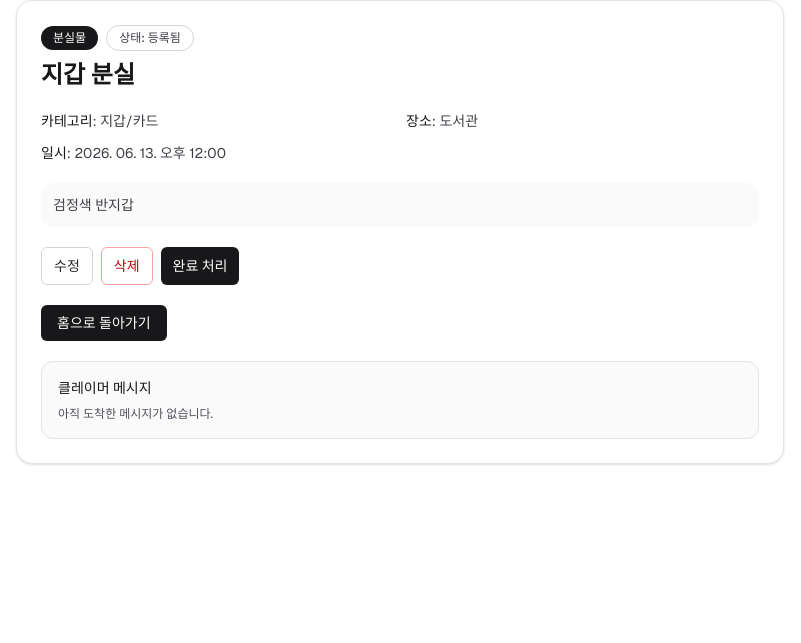
it: PostDetailView › allows author to edit and save post
Click the button "수정": (67, 266) [41, 247, 93, 285]
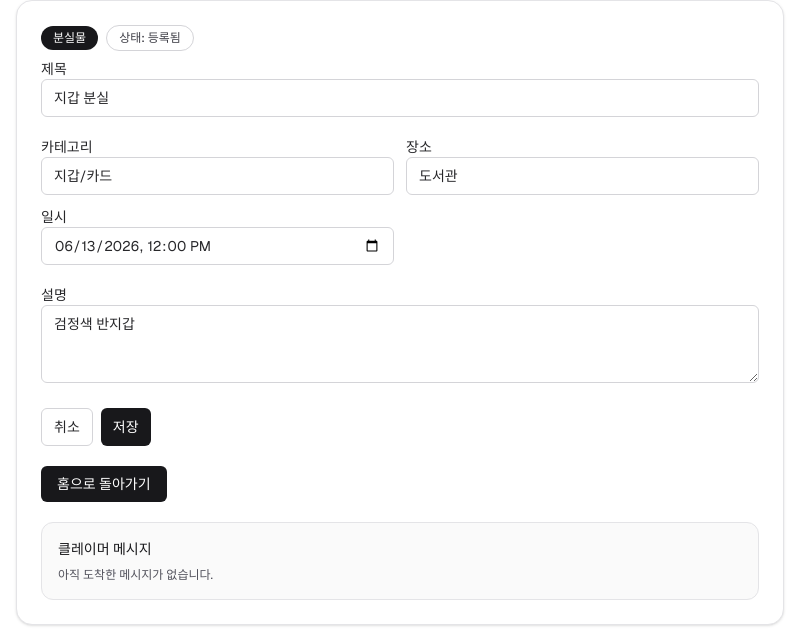
Replace the text in the field labelled "제목" with "지갑 분실(수정)": (400, 98) [41, 79, 759, 117]
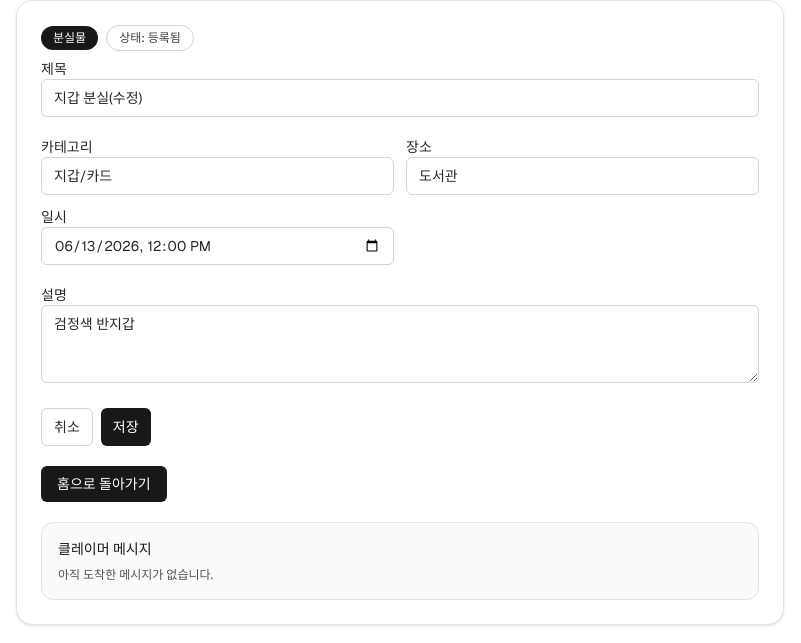
Replace the text in the text box labelled "설명" with "학생증 포함": (400, 344) [41, 305, 759, 383]
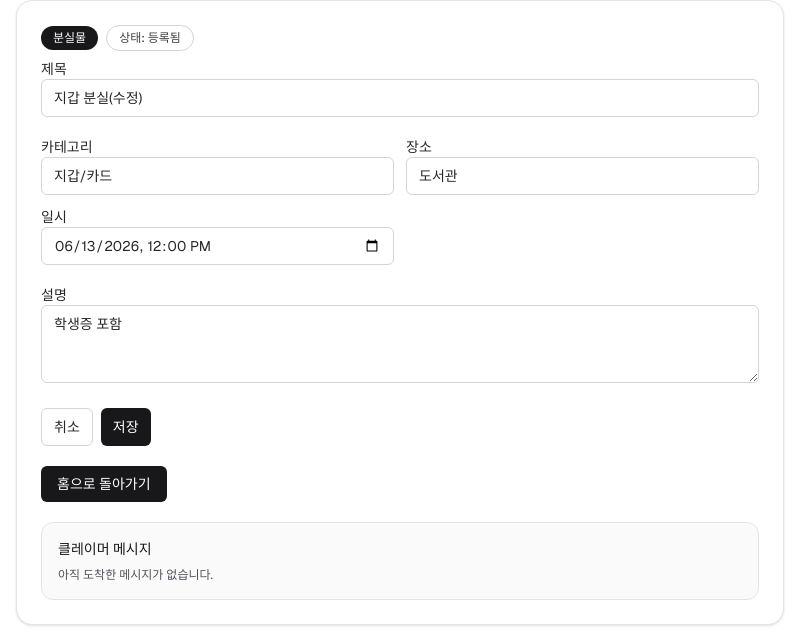
Click the button "저장": (126, 427) [101, 408, 151, 446]
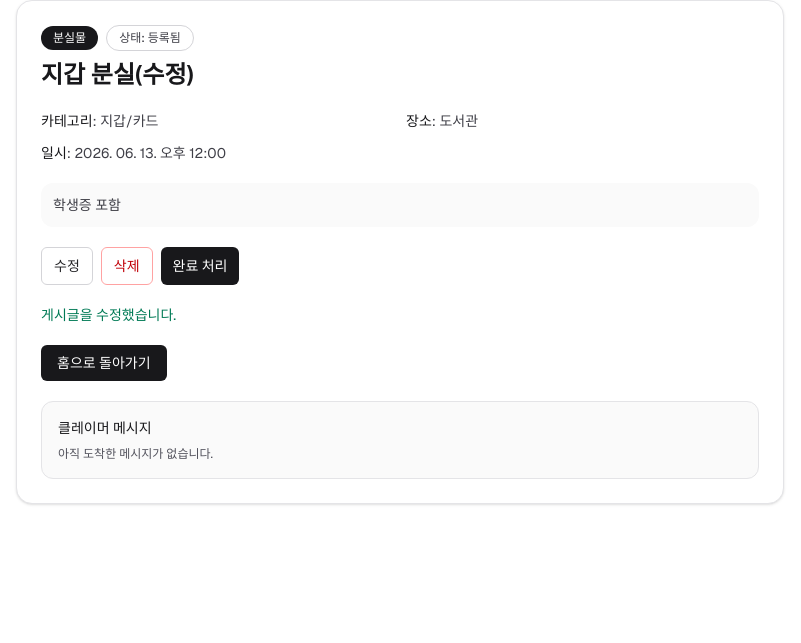
Now the text "게시글을 수정했습니다." is shown, box [41, 306, 176, 324]
Now the heading "지갑 분실(수정)" is shown, box [41, 59, 194, 90]
